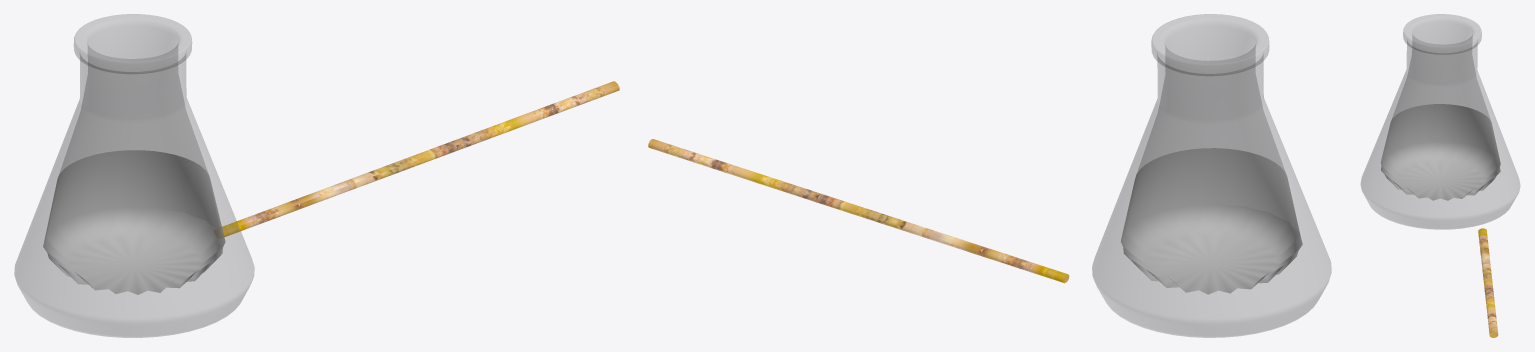
Rendered from chemExp_2.glb.
The picture shows the model from 3 angles, left to right: view 1: azimuth 30°, elevation 25°; view 2: azimuth 150°, elevation 25°; view 3: azimuth 270°, elevation 25°; orthographic projection. The views are drawn at different scales.
Visible parts, largest first — view 1: falsk_Gas_exp6_1, ToothPick; view 2: falsk_Gas_exp6_1, ToothPick; view 3: falsk_Gas_exp6_1, ToothPick.
Part boxes in pixels (bbox=[...]): falsk_Gas_exp6_1: bbox=[14, 14, 254, 337]; ToothPick: bbox=[222, 81, 619, 237]; falsk_Gas_exp6_1: bbox=[1092, 14, 1331, 337]; ToothPick: bbox=[648, 139, 1069, 283]; falsk_Gas_exp6_1: bbox=[1361, 14, 1519, 229]; ToothPick: bbox=[1478, 228, 1498, 337].
Size of the model in its own units: 0.6157 by 0.2405 by 0.2048.
2 materials, 2 textured.
